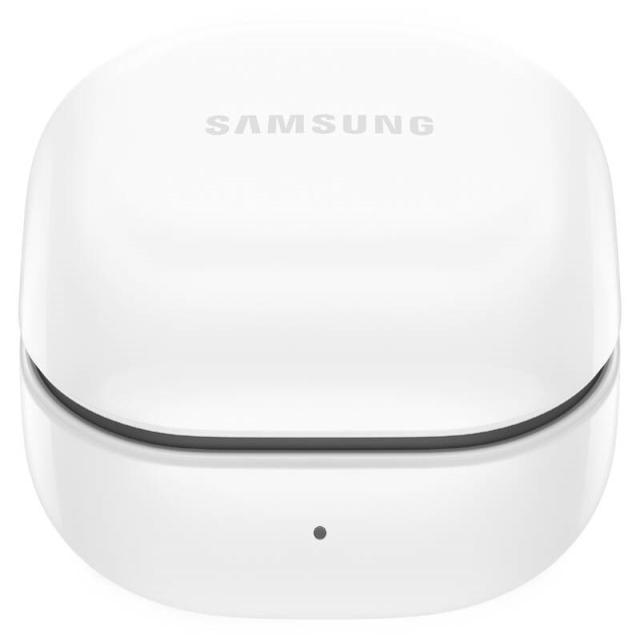headphones: (19, 11, 620, 618)
